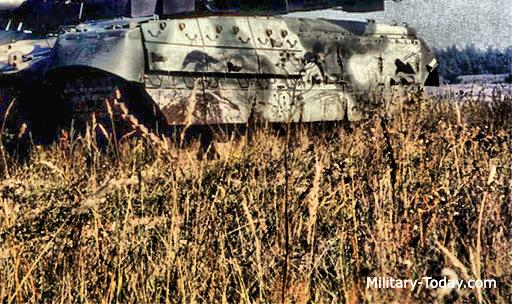tanks: (1, 1, 437, 137)
